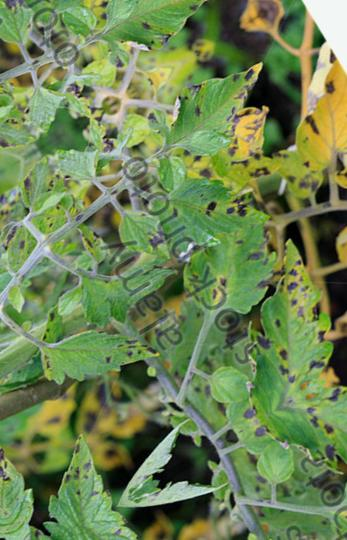Tomato Early blight leaf: (220, 235, 347, 399), (148, 43, 292, 166), (25, 290, 162, 412), (143, 151, 267, 272), (19, 426, 129, 538)
